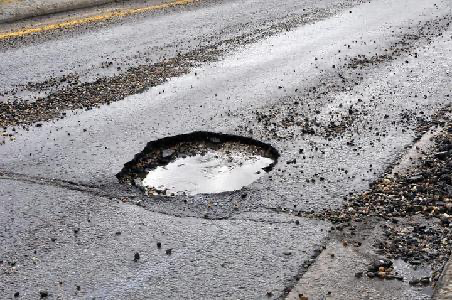pothole: (114, 129, 284, 197)
